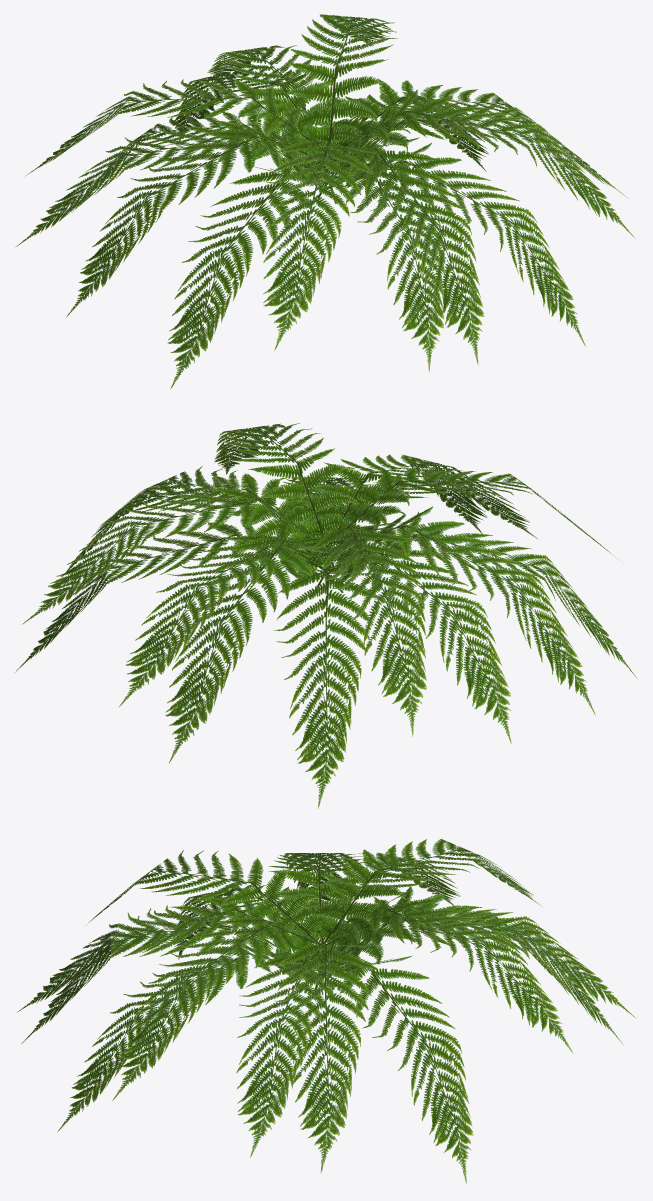
File: PalmTree1.1.fbx
The picture shows the model from 3 angles, top to bottom: view 1: azimuth 30°, elevation 25°; view 2: azimuth 150°, elevation 25°; view 3: azimuth 270°, elevation 25°; orthographic projection. The views are drawn at different scales.
Visible parts, largest first — view 1: Plane.010; view 2: Plane.010; view 3: Plane.010.
Part boxes in pixels (left/top/right/bottom): Plane.010: left=15, top=14, right=635, bottom=389; Plane.010: left=15, top=423, right=637, bottom=808; Plane.010: left=16, top=839, right=636, bottom=1183.
Bounding box in the file's own units: 4080 × 1357 × 4172.
1 material, 1 textured.
